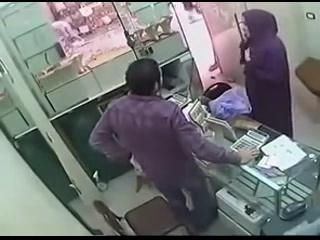Normal: (89, 58, 260, 232), (238, 10, 293, 138)
